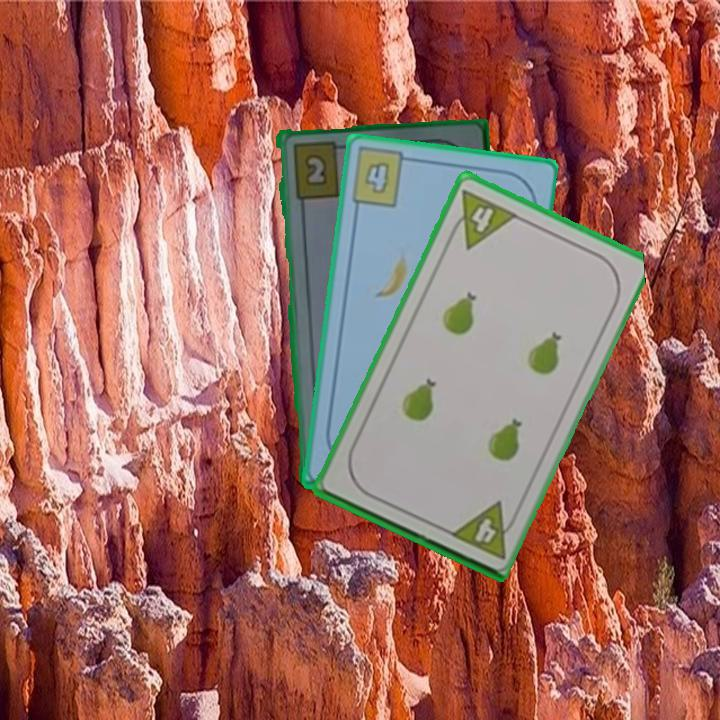2b: (288, 137, 349, 201)
4b: (348, 146, 417, 210)
4p: (443, 185, 520, 252), (445, 498, 522, 562)
